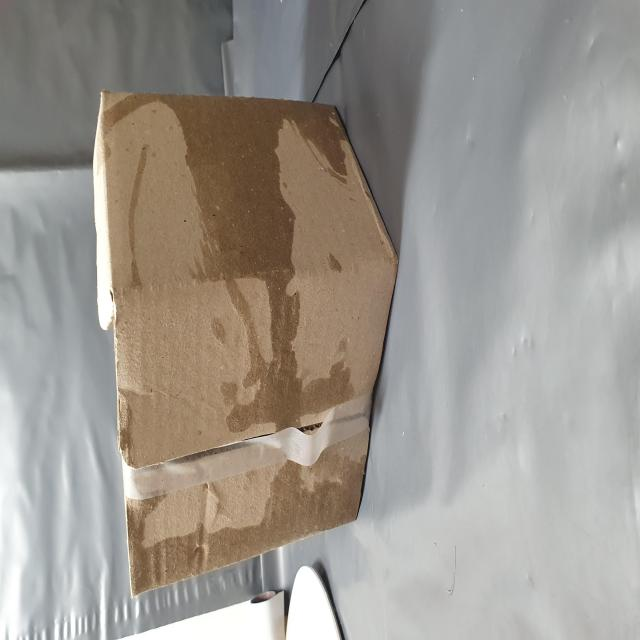wet: (118, 322, 307, 622), (30, 228, 102, 640)
